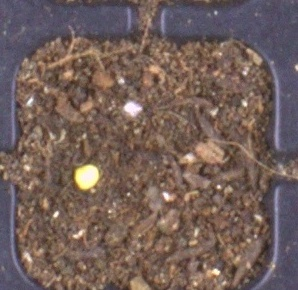chilli seed: (73, 164, 100, 191)
